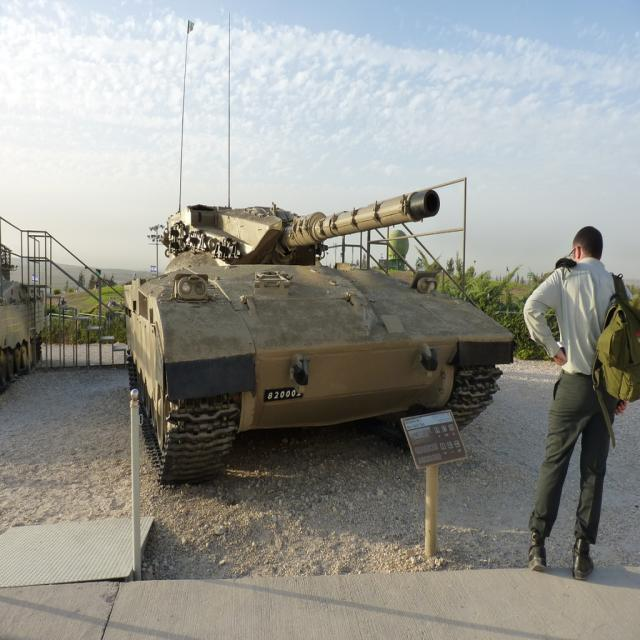tank: (120, 14, 516, 486)
